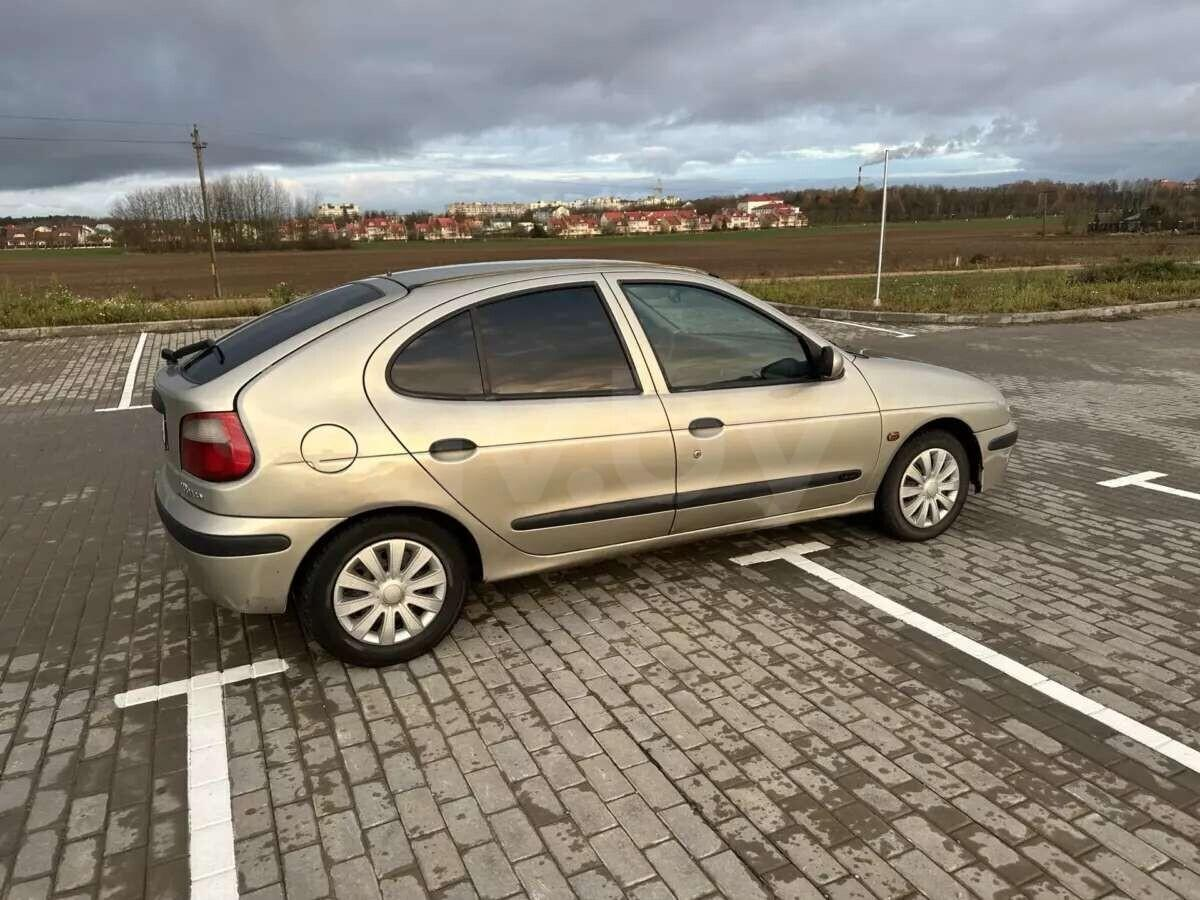Megane_1999-2003: (155, 256, 1021, 676)
